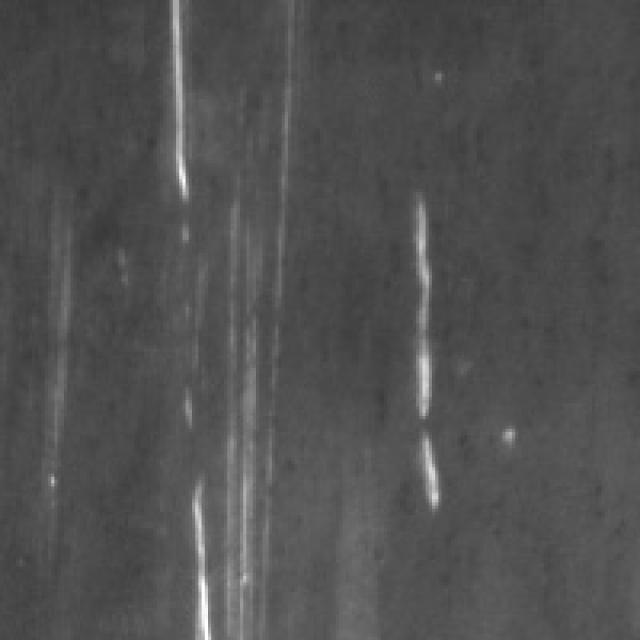scratches: (180, 173, 278, 630), (397, 185, 451, 506), (35, 202, 80, 518), (150, 0, 196, 208)
